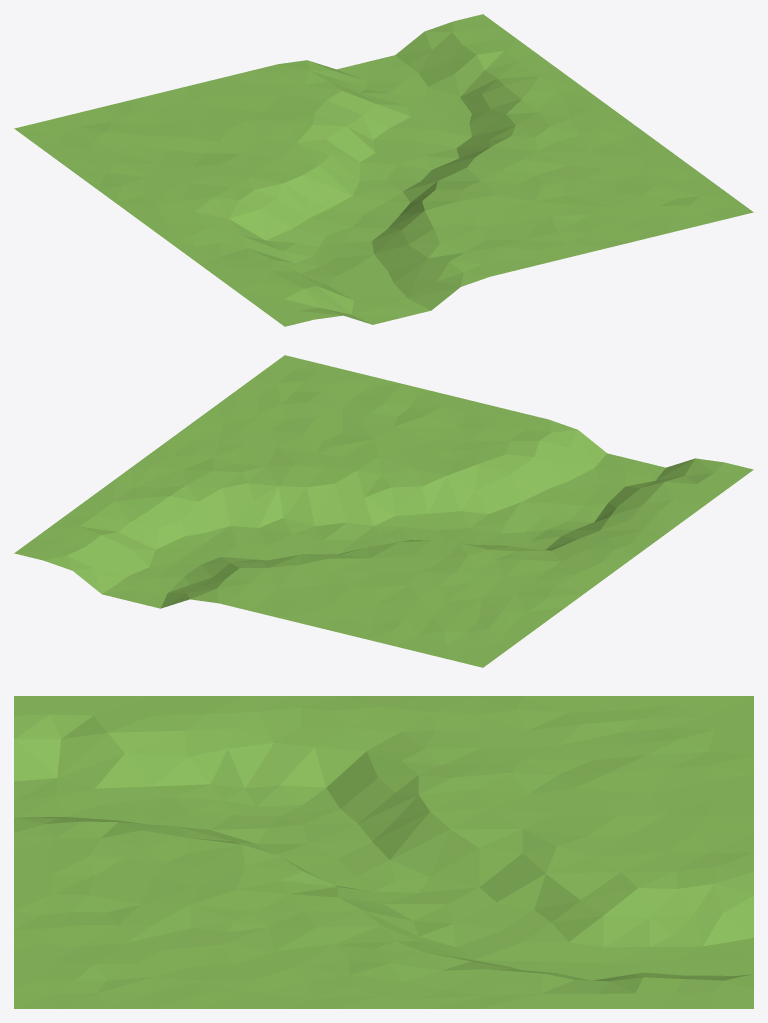
The model's file is MT_River_M_c_01_LOD.fbx.
The picture shows the model from 3 angles, top to bottom: view 1: azimuth 30°, elevation 25°; view 2: azimuth 150°, elevation 25°; view 3: azimuth 270°, elevation 25°; orthographic projection. The views are drawn at different scales.
Visible parts, largest first — view 1: MT_River_M_c_01_LOD0; view 2: MT_River_M_c_01_LOD0; view 3: MT_River_M_c_01_LOD0.
Boxes of the visible parts, x1,y1,x2,y2 form: MT_River_M_c_01_LOD0: (14, 14, 753, 326); MT_River_M_c_01_LOD0: (14, 355, 753, 667); MT_River_M_c_01_LOD0: (14, 696, 753, 1008).
Size of what is drawn, in the model's own units: 5000 by 254 by 5000.
